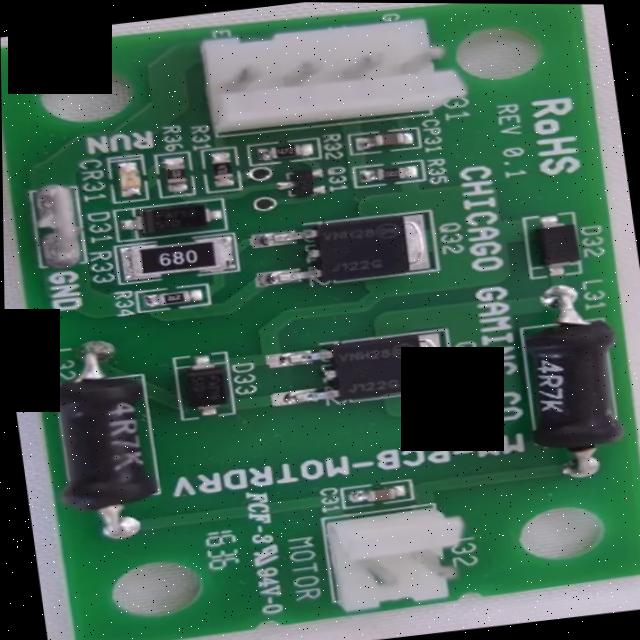4439: (278, 163, 328, 206)
IC: (261, 209, 429, 296), (281, 331, 442, 412)
LED: (113, 160, 142, 199)
capacitor 1V5: (351, 128, 417, 152), (343, 483, 406, 505)
connector -5v-: (193, 16, 471, 138), (310, 498, 478, 617)
diode -D1-: (520, 215, 584, 279), (127, 199, 222, 239), (179, 358, 232, 414)
inductor F1: (512, 295, 627, 465), (31, 364, 155, 518)
resistor IR1: (121, 236, 233, 279), (254, 138, 316, 161), (357, 161, 418, 184), (144, 285, 196, 308), (156, 157, 187, 191), (204, 152, 233, 188)
